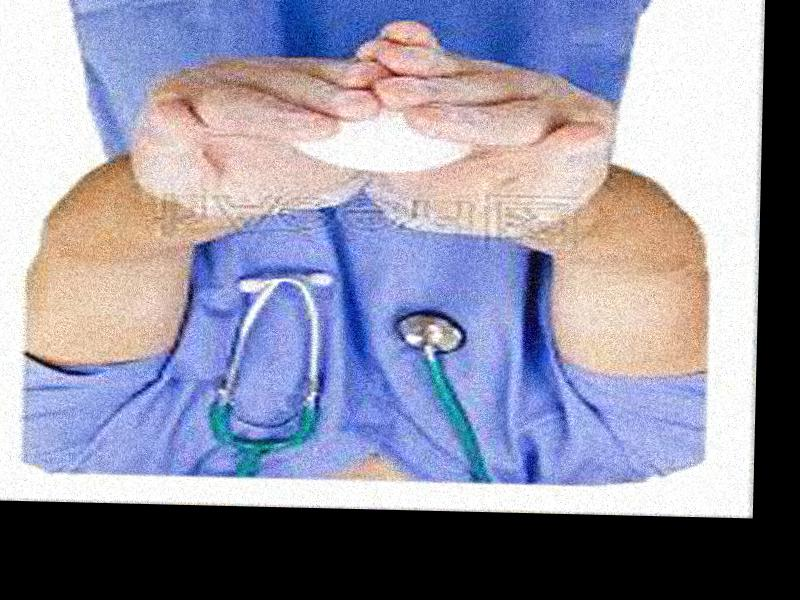Eggs: (291, 102, 467, 174)
